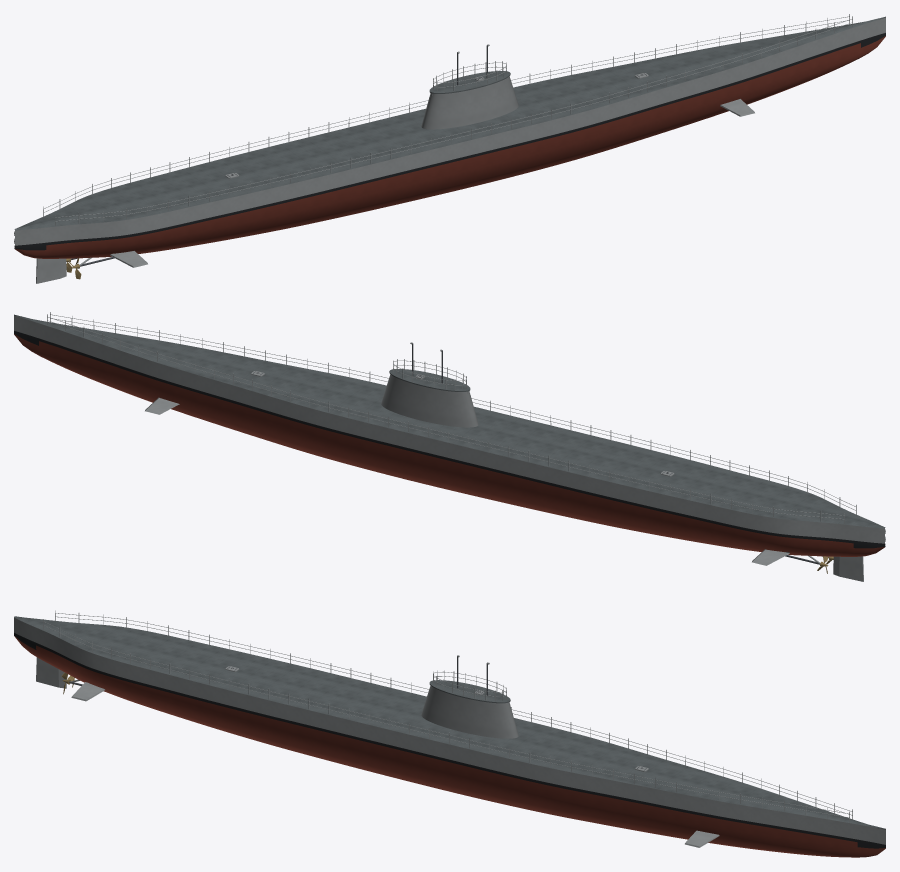
File: dolphin_ss31.glb
3 renders of one model, top to bottom at view 1: azimuth 30°, elevation 25°; view 2: azimuth 150°, elevation 25°; view 3: azimuth 330°, elevation 25°, orthographic.
Parts seen in each view (by area): view 1: Dolphin class; view 2: Dolphin class; view 3: Dolphin class.
Part boxes in pixels (box(x1,y1,x2,y2)): Dolphin class: box(14, 14, 885, 283); Dolphin class: box(14, 312, 885, 581); Dolphin class: box(14, 610, 885, 857).
Bounding box in the file's own units: 88 × 12.78 × 10.85.
6 materials, 6 textured.
